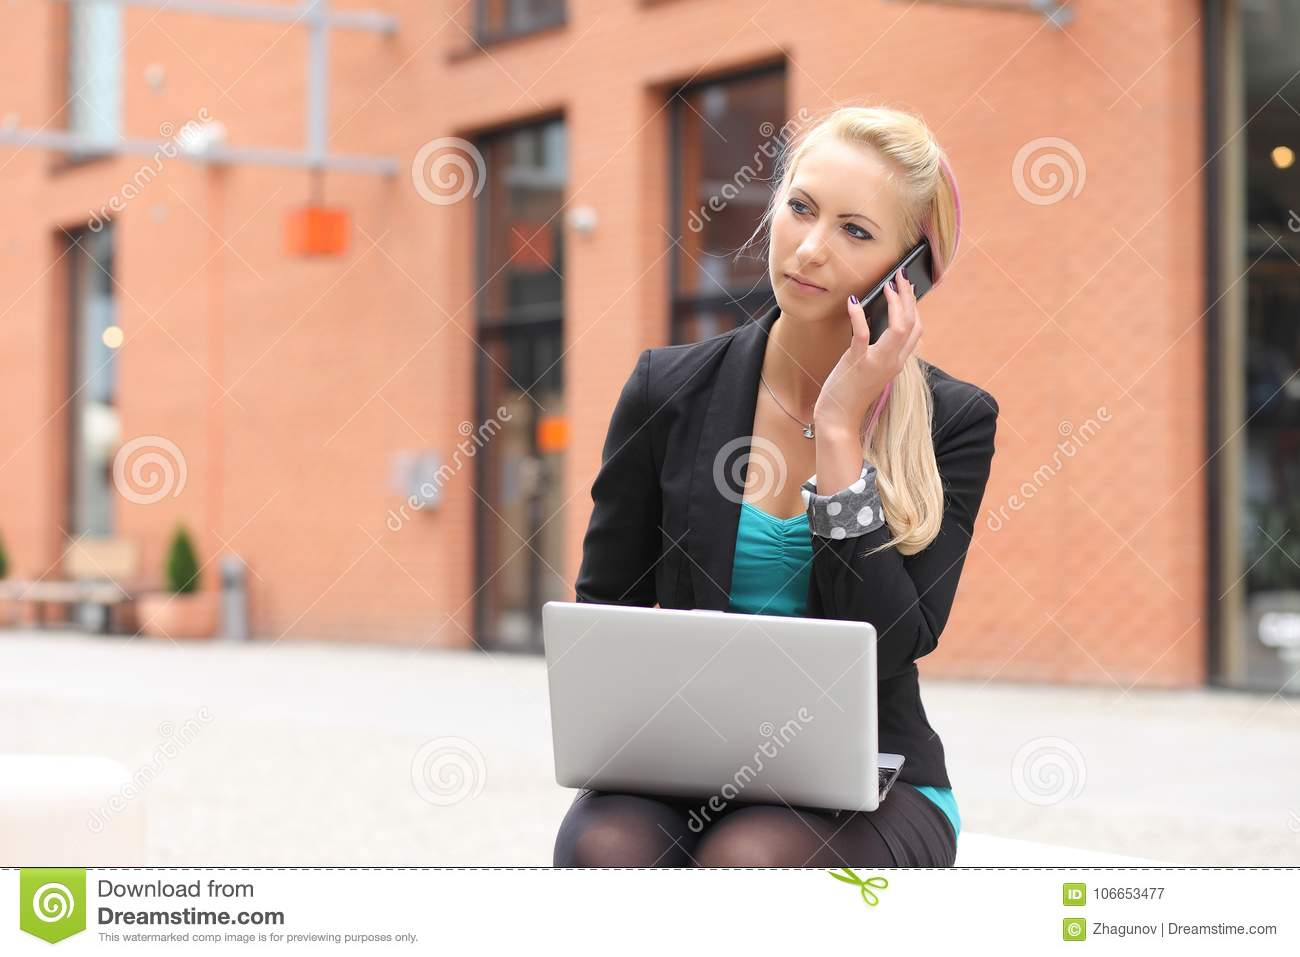phone: (851, 238, 936, 344)
talk: (768, 175, 936, 420)
